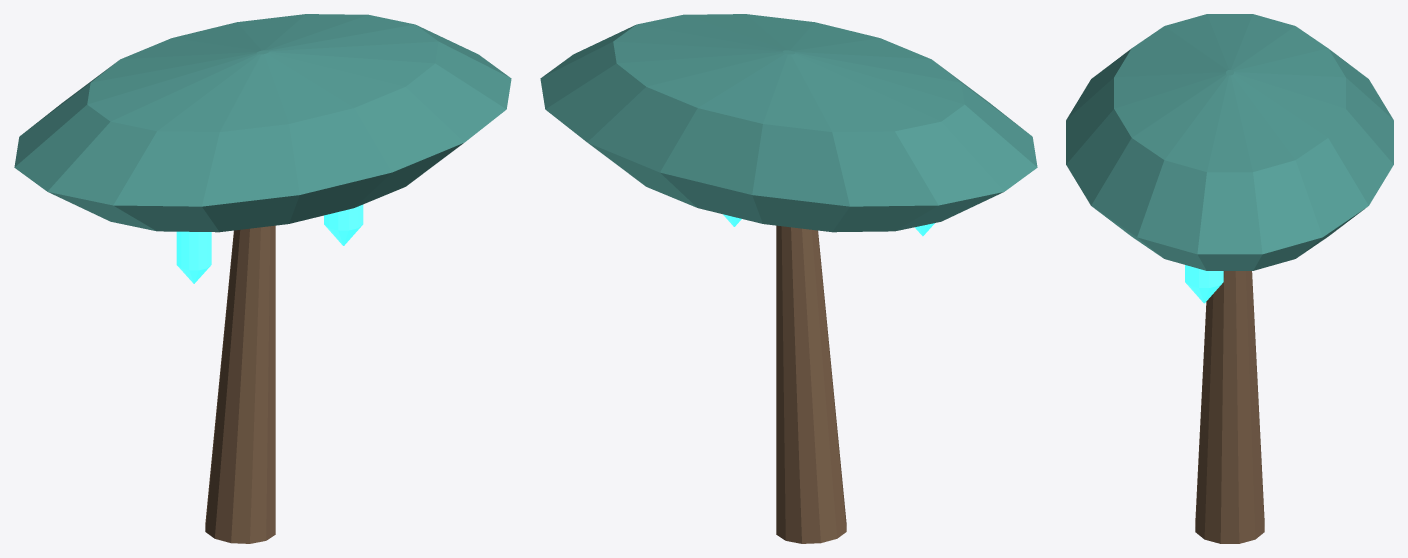
File: Nature_SailTree.glb
The picture shows the model from 3 angles, left to right: view 1: azimuth 30°, elevation 25°; view 2: azimuth 150°, elevation 25°; view 3: azimuth 270°, elevation 25°; orthographic projection.
Visible parts, largest first — view 1: Nature_SailTree_Canopy, Nature_SailTree_Trunk, Nature_SailTree_GlowSeedpods; view 2: Nature_SailTree_Canopy, Nature_SailTree_Trunk; view 3: Nature_SailTree_Canopy, Nature_SailTree_Trunk, Nature_SailTree_GlowSeedpods.
Boxes of the visible parts, left/top/right/bottom form: Nature_SailTree_Canopy: left=14, top=14, right=511, bottom=232; Nature_SailTree_Trunk: left=205, top=225, right=275, bottom=543; Nature_SailTree_GlowSeedpods: left=176, top=204, right=363, bottom=283; Nature_SailTree_Canopy: left=540, top=14, right=1037, bottom=232; Nature_SailTree_Trunk: left=776, top=225, right=846, bottom=543; Nature_SailTree_Canopy: left=1066, top=14, right=1393, bottom=270; Nature_SailTree_Trunk: left=1195, top=271, right=1264, bottom=543; Nature_SailTree_GlowSeedpods: left=1185, top=265, right=1223, bottom=303.
Size of the model in its own units: 4.12 by 4.01 by 2.55.
